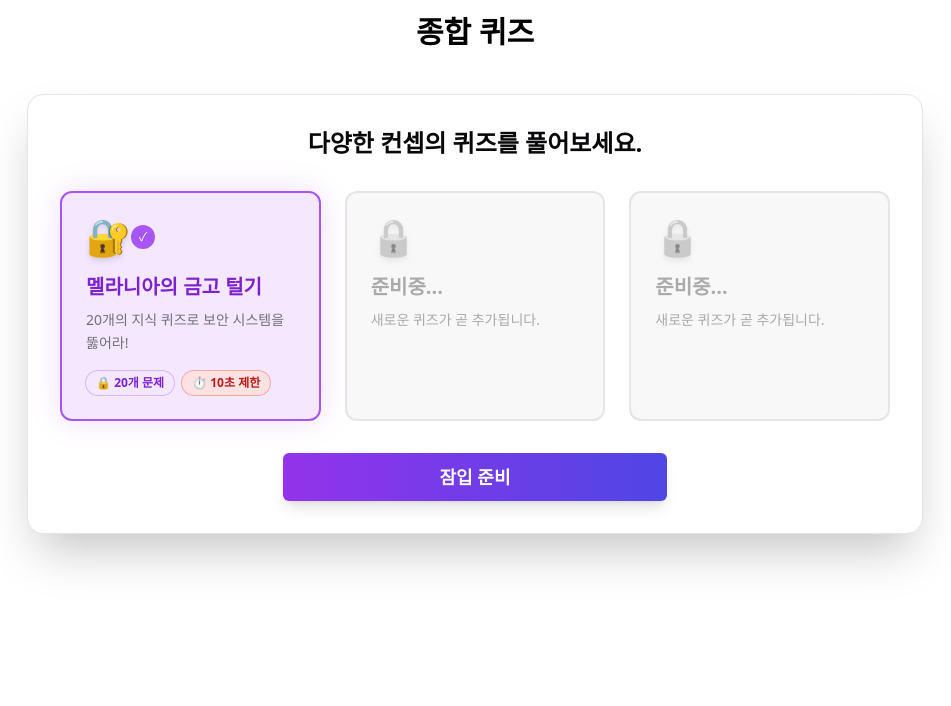
Test: Quiz 컴포넌트 › 경고 화면 (warning 페이즈) › 퀴즈 시작 버튼 클릭 시 경고 화면으로 전환된다
This screenshot has width=951, height=706.
Click the button "잠입 준비": (475, 476) [283,452,667,500]
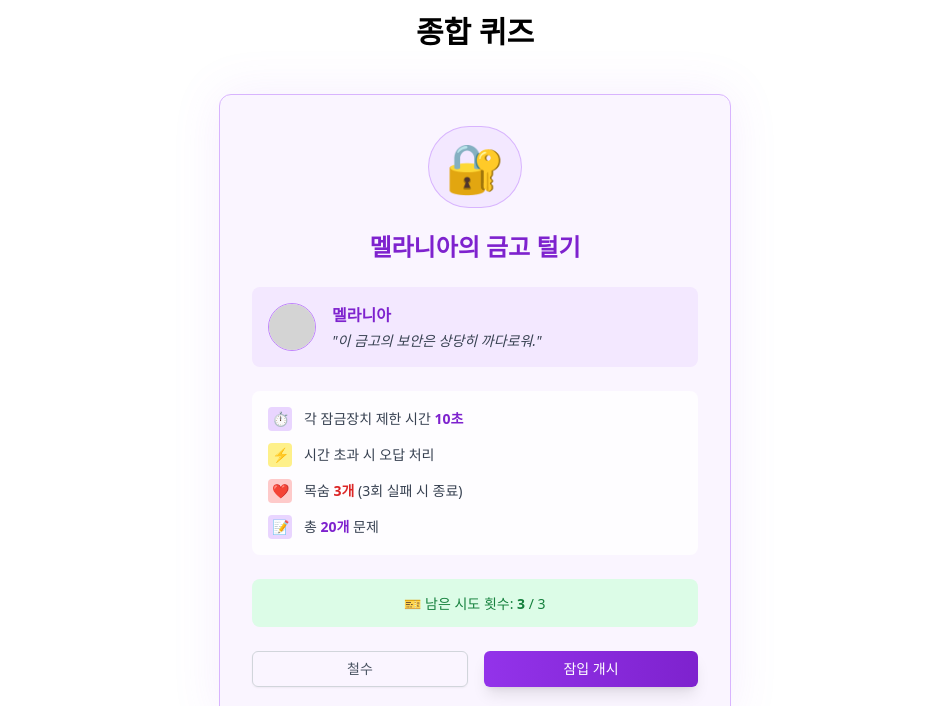
Check: the text "\"이 금고의 보안은 상당히 까다로워.\"" is shown, box [332,331,542,350]
